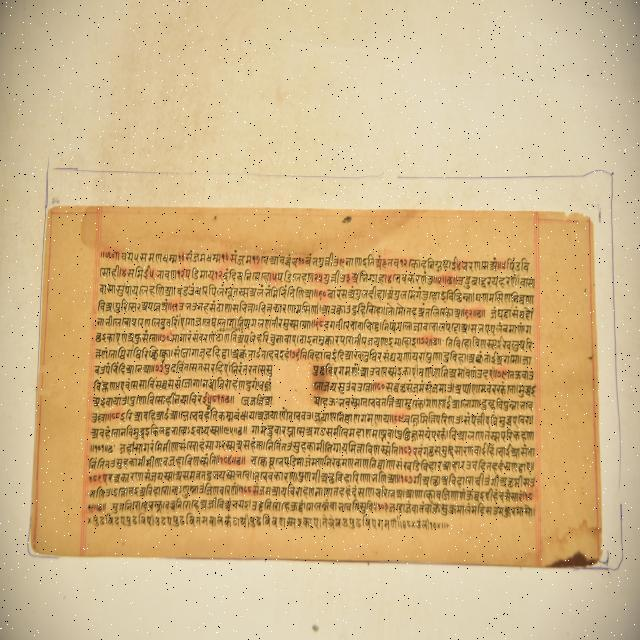text_paragraph: (28, 203, 603, 559)
